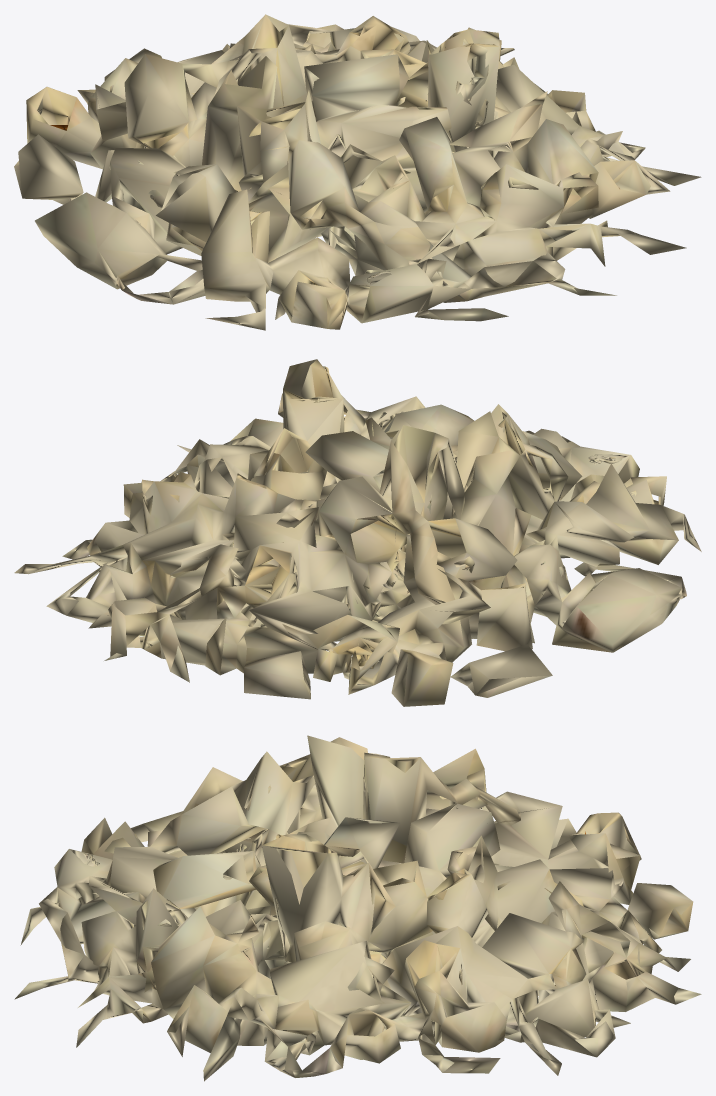
Rendered from BloodiedDiscardedBandageHeap_Optimized.glb.
The picture shows the model from 3 angles, top to bottom: view 1: azimuth 30°, elevation 25°; view 2: azimuth 150°, elevation 25°; view 3: azimuth 270°, elevation 25°; orthographic projection. The views are drawn at different scales.
Parts seen in each view (by area): view 1: Mesh_0.001; view 2: Mesh_0.001; view 3: Mesh_0.001.
Part boxes in pixels (x1=…): Mesh_0.001: x1=14, y1=14, x2=701, y2=330; Mesh_0.001: x1=14, y1=359, x2=701, y2=706; Mesh_0.001: x1=14, y1=735, x2=701, y2=1081.
Bounding box in the file's own units: 1.77 × 0.5273 × 1.88.
Materials: 1 (1 with a texture image).
